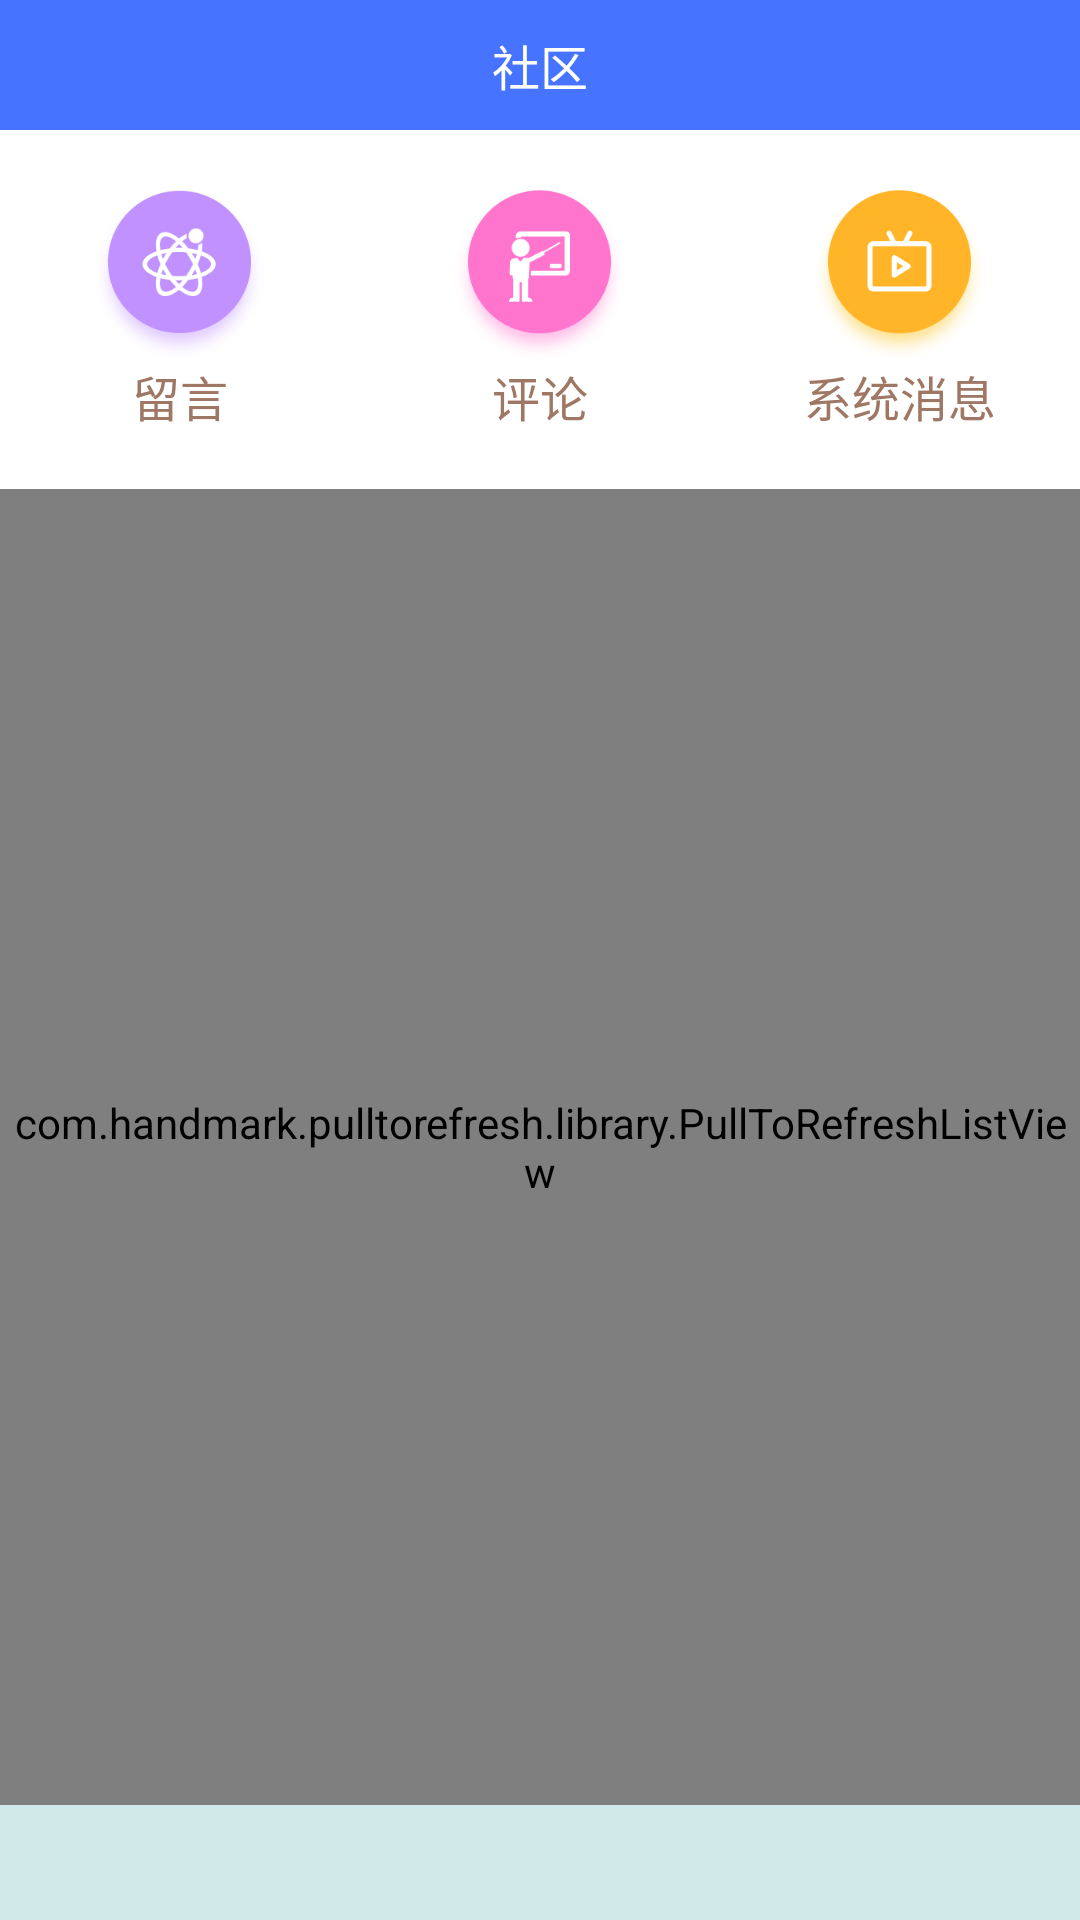

Icons on this 1080px x 1920px Android screen, each with its box as (x1, y1, x2, y2):
fagment main classroom: (468, 190, 611, 346)
fragment main live: (825, 190, 974, 349)
fragment main science: (108, 191, 251, 344)
